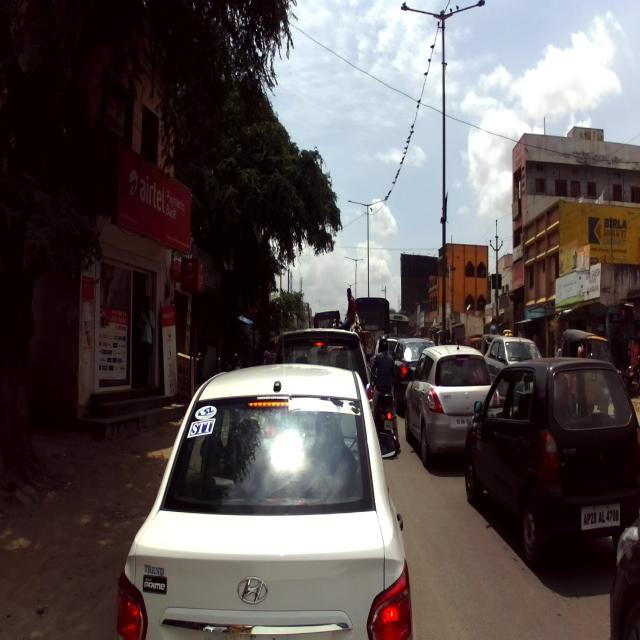Car_Hyundai: (115, 361, 413, 639)
Car_Maruti-Suzuki: (464, 356, 639, 574), (403, 343, 494, 468)
Car_Toyota: (271, 327, 373, 422)
motorcycle_RoyalEnfield: (369, 361, 398, 457)
